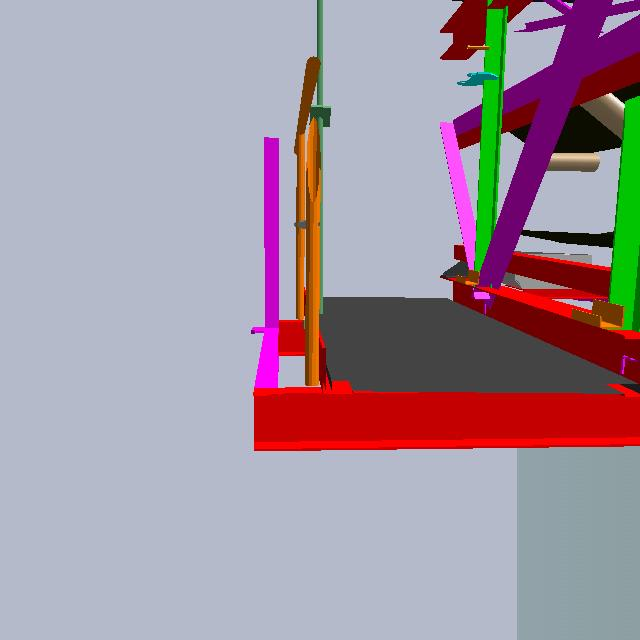Poste: (306, 1, 332, 327)
Soporte: (250, 126, 338, 395)
